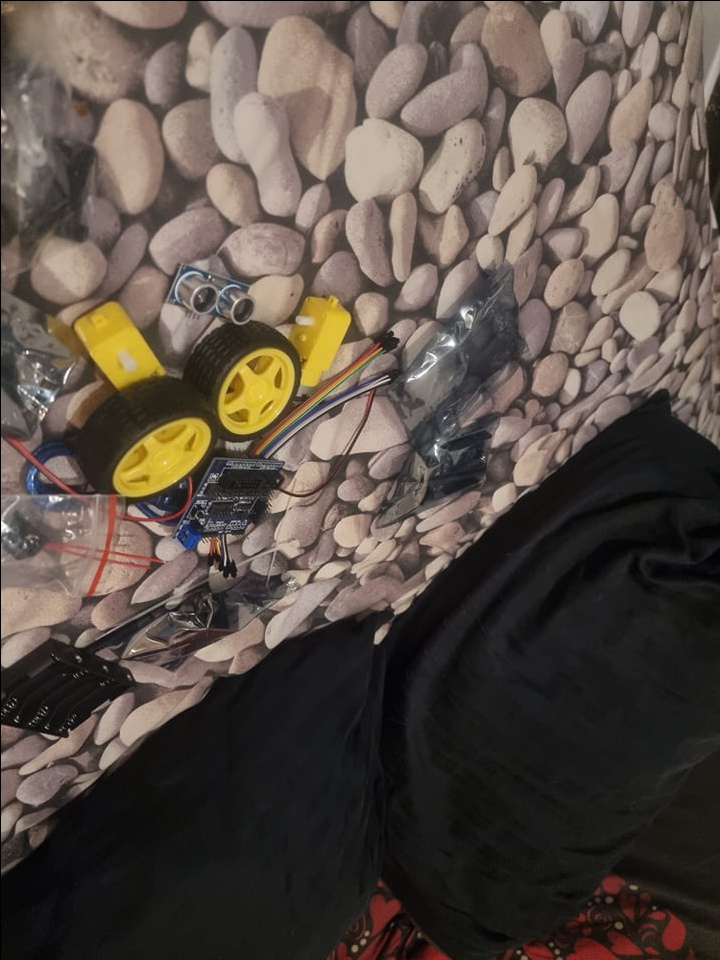5V EXPANSION: (172, 455, 285, 548)
BATTERY BOX: (0, 637, 134, 747)
SENSOR: (164, 268, 256, 324)
